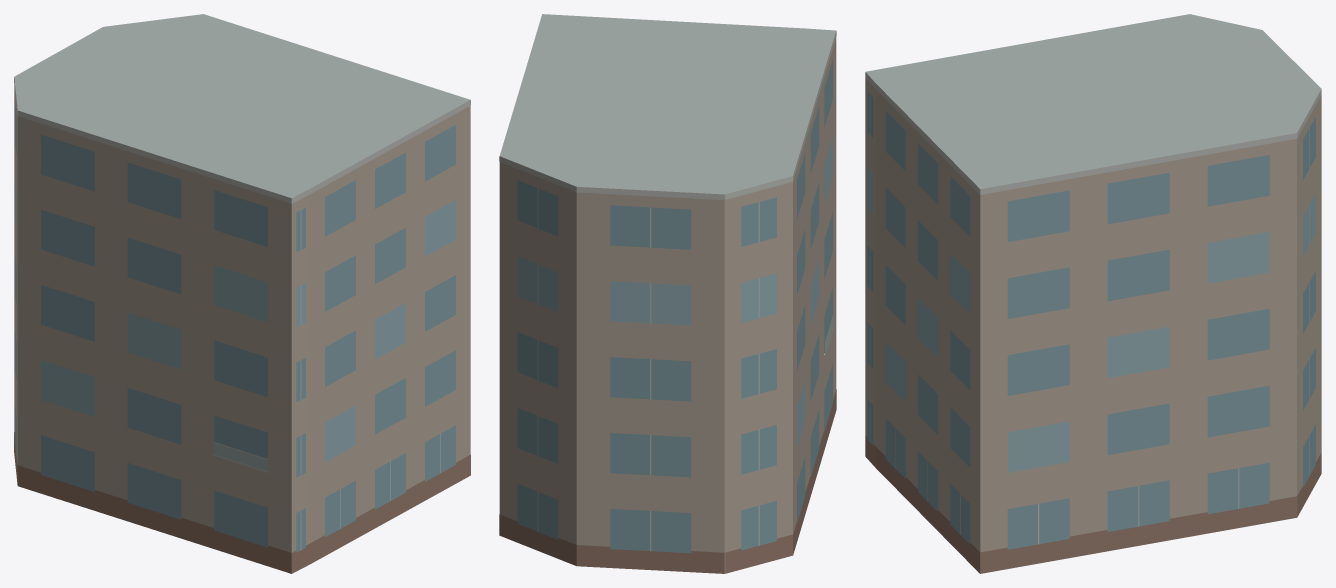
The model's file is survey-upis-32757838.glb.
3 renders of one model, left to right at view 1: azimuth 30°, elevation 25°; view 2: azimuth 150°, elevation 25°; view 3: azimuth 270°, elevation 25°, orthographic. The views are drawn at different scales.
Parts seen in each view (by area): view 1: survey-upis-32757838.tmp; view 2: survey-upis-32757838.tmp; view 3: survey-upis-32757838.tmp.
Part boxes in pixels (x1,y1,x2,y2): survey-upis-32757838.tmp: (14,14,470,573); survey-upis-32757838.tmp: (499,14,836,573); survey-upis-32757838.tmp: (865,14,1321,573).
Size of the model in its own units: 16.03 by 16.4 by 17.64.
